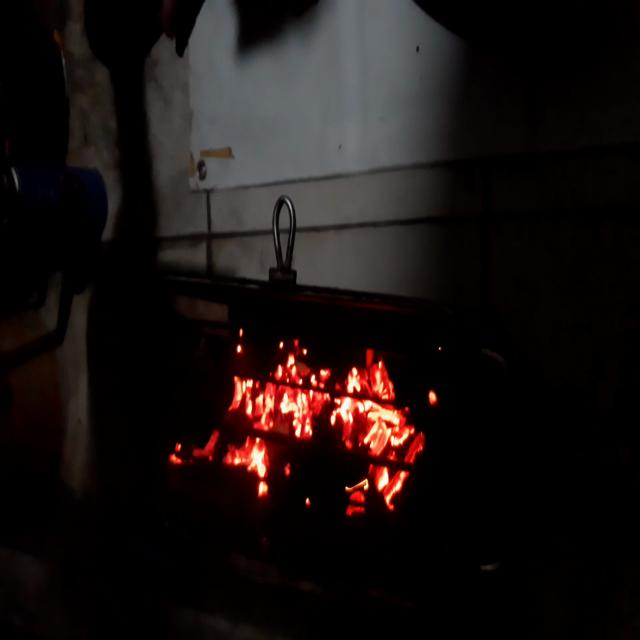Fire: (162, 304, 432, 532)
